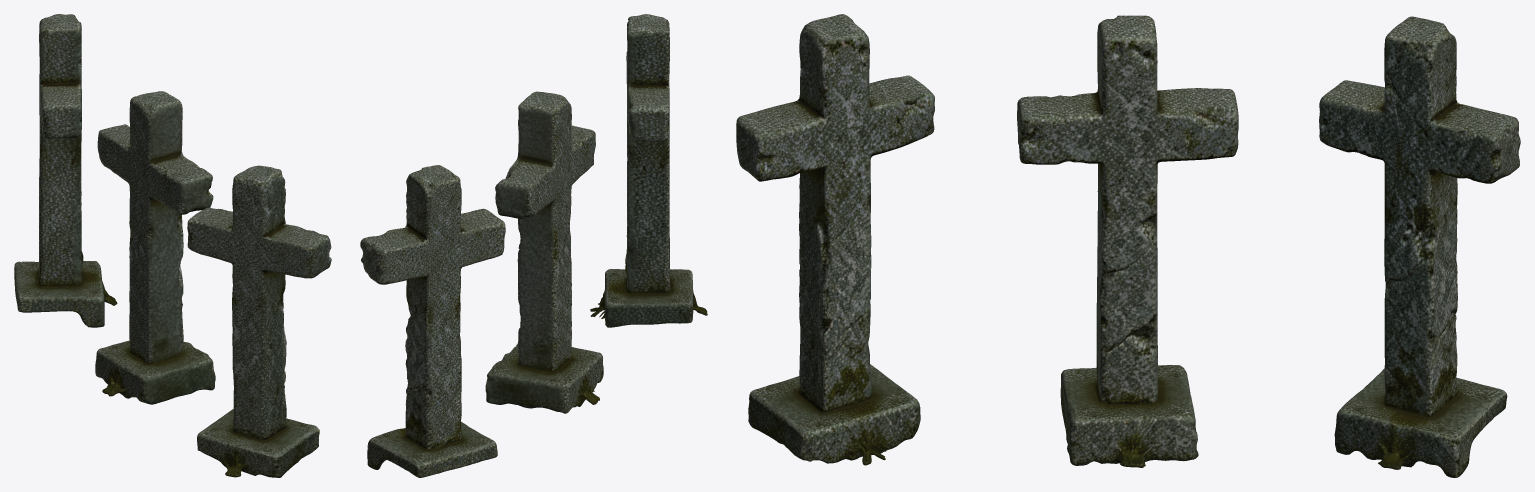
Rendered from cross_1.glb.
The picture shows the model from 3 angles, left to right: view 1: azimuth 30°, elevation 25°; view 2: azimuth 150°, elevation 25°; view 3: azimuth 270°, elevation 25°; orthographic projection. The views are drawn at different scales.
Parts seen in each view (by area): view 1: tripo_node_13e65cbe-7974-4def-b43f-0550163892ca; view 2: tripo_node_13e65cbe-7974-4def-b43f-0550163892ca; view 3: tripo_node_13e65cbe-7974-4def-b43f-0550163892ca.
Boxes of the visible parts, left/top/right/bottom form: tripo_node_13e65cbe-7974-4def-b43f-0550163892ca: left=14, top=14, right=331, bottom=477; tripo_node_13e65cbe-7974-4def-b43f-0550163892ca: left=360, top=14, right=707, bottom=477; tripo_node_13e65cbe-7974-4def-b43f-0550163892ca: left=736, top=14, right=1520, bottom=477.
Size of the model in its own units: 0.2273 by 0.5715 by 0.9788.
Materials: 1 (1 with a texture image).
